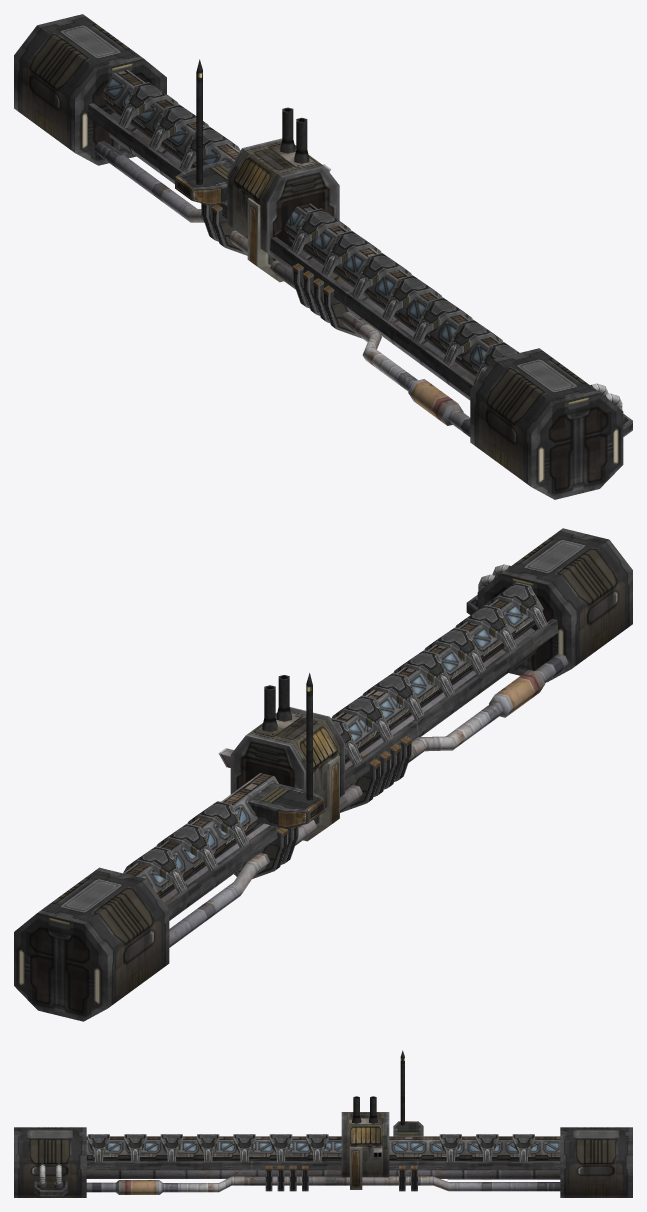
Rendered from gaspipe1.fbx.
The picture shows the model from 3 angles, top to bottom: view 1: azimuth 30°, elevation 25°; view 2: azimuth 150°, elevation 25°; view 3: azimuth 270°, elevation 25°; orthographic projection. The views are drawn at different scales.
Parts seen in each view (by area): view 1: body; view 2: body; view 3: body.
Part boxes in pixels (box(x1,y1,x2,y2)): body: box(14, 14, 632, 499); body: box(14, 528, 632, 1021); body: box(14, 1050, 632, 1197).
Bounding box in the file's own units: 8.06 × 11.46 × 51.
1 material, 1 textured.
